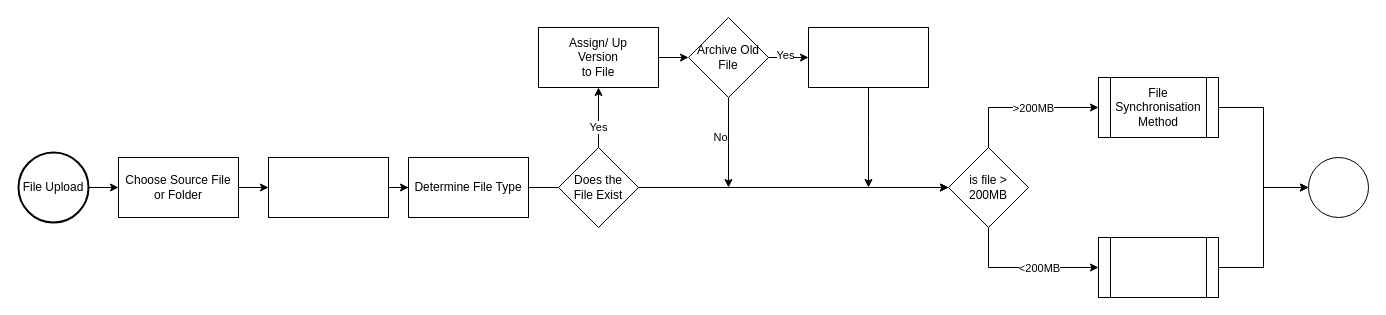
The diagram is 1386 pixels wide and 315 high, and some of its shapes have lost their labels. The shapes that lost their labels are listed below. From the top down, each one's box as (x1, y1, x2, y2) in pixels, then its label:
(808, 26, 928, 88): Archive Old File and Set File Storage Status
(268, 156, 388, 218): Choose New Folder or create a New one
(1308, 156, 1368, 218): File Uploaded
(1098, 236, 1218, 298): File Upload Method
